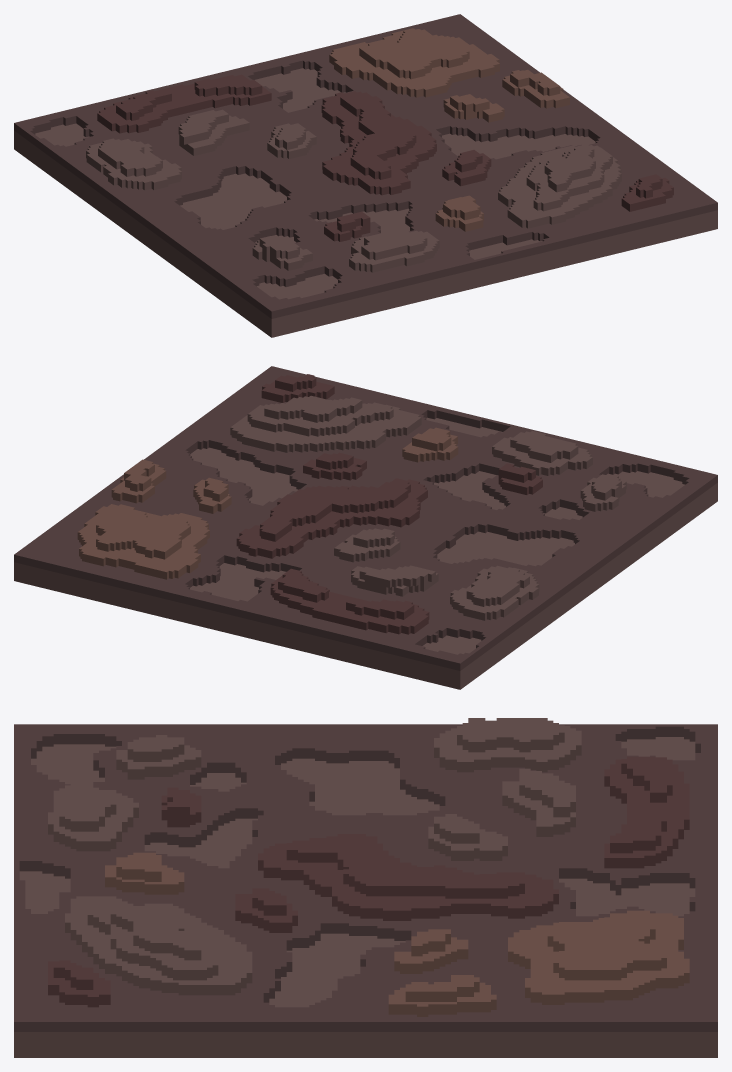
The model's file is tileFloor2W1.obj.
3 renders of one model, top to bottom at view 1: azimuth 30°, elevation 25°; view 2: azimuth 150°, elevation 25°; view 3: azimuth 270°, elevation 25°, orthographic. The views are drawn at different scales.
Bounding box in the file's own units: 12.4 × 1.3 × 12.4.
Materials: 1 (1 with a texture image).
